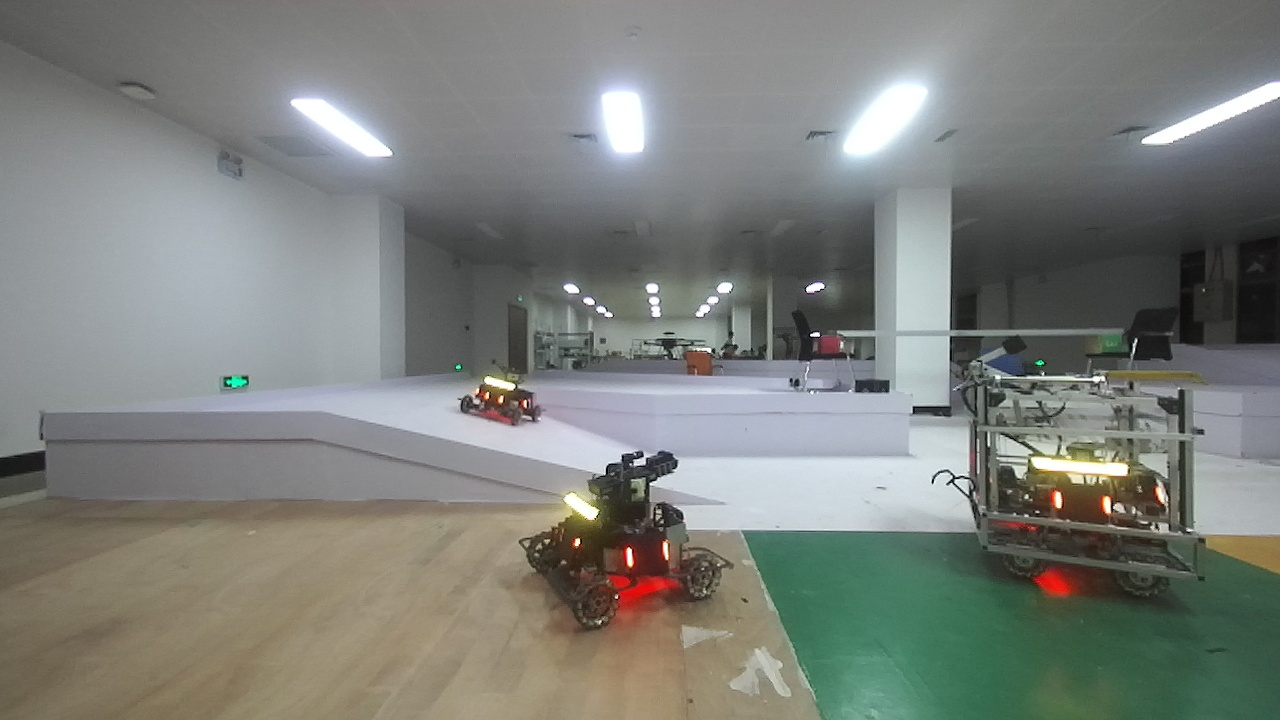car: (935, 346, 1215, 609), (521, 452, 732, 633), (453, 363, 552, 433)
